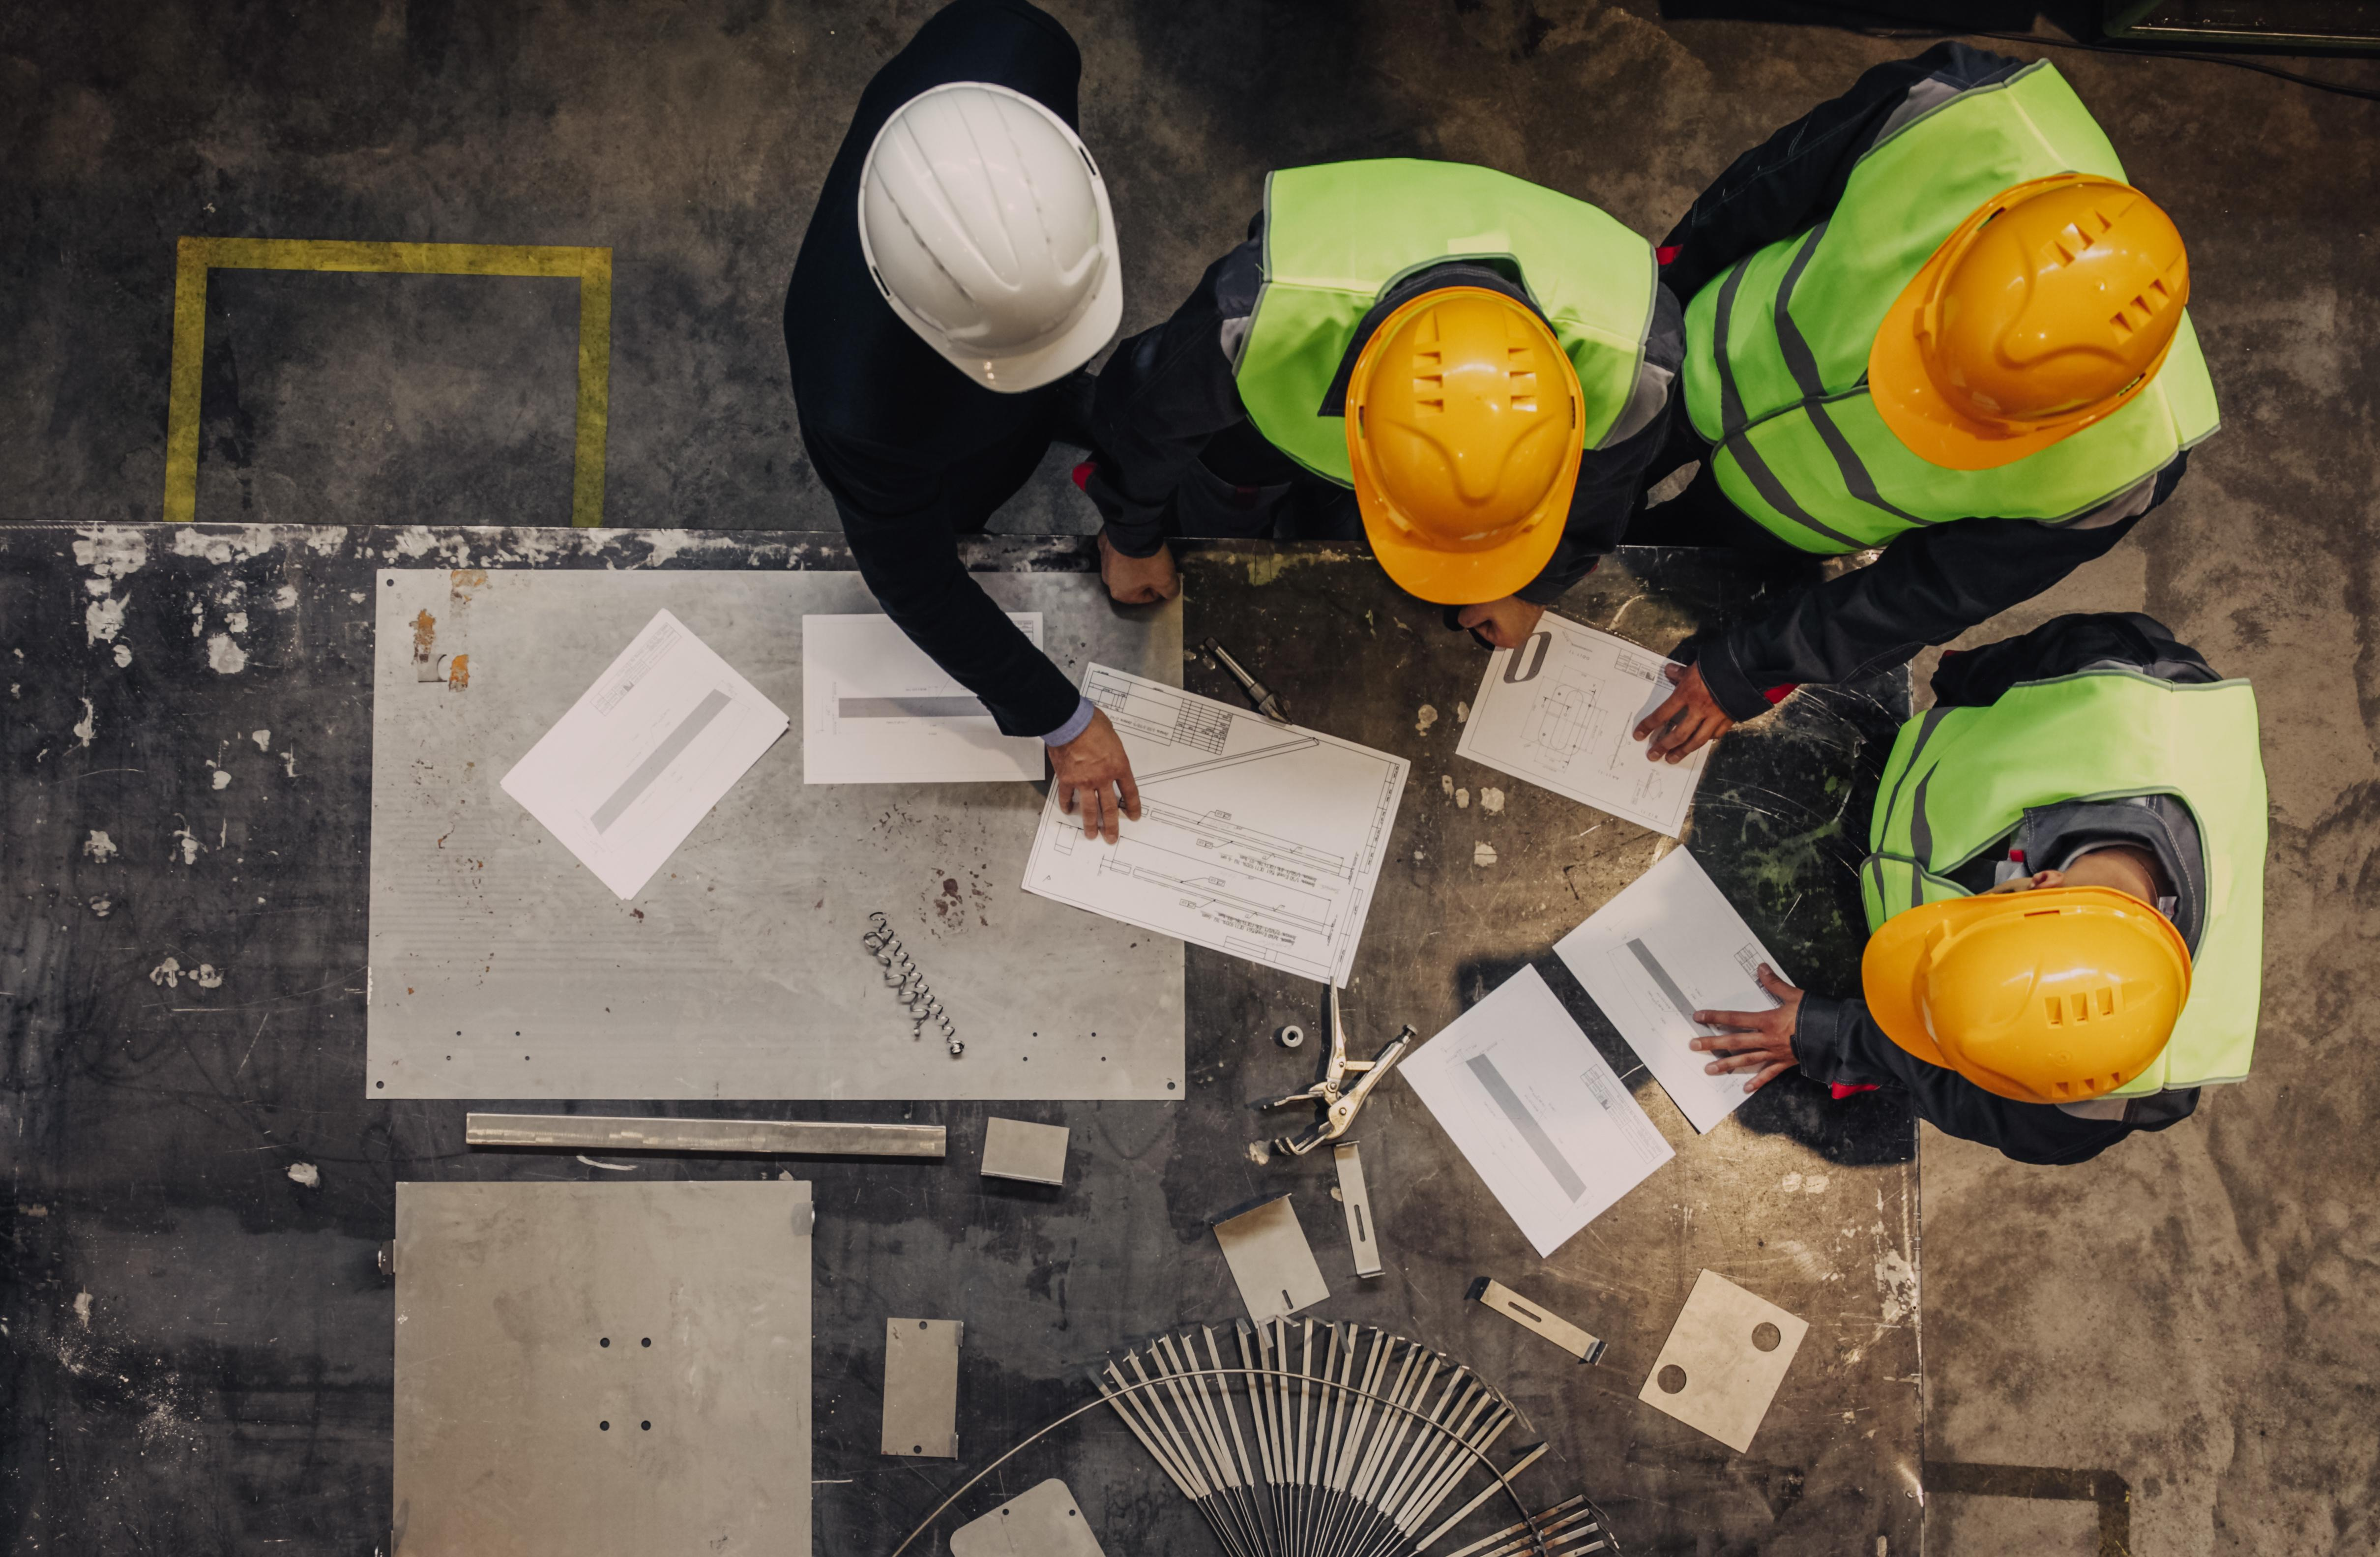helmet: (1866, 176, 2192, 474), (863, 82, 1119, 391), (1348, 290, 1581, 600), (1864, 902, 2198, 1109)
